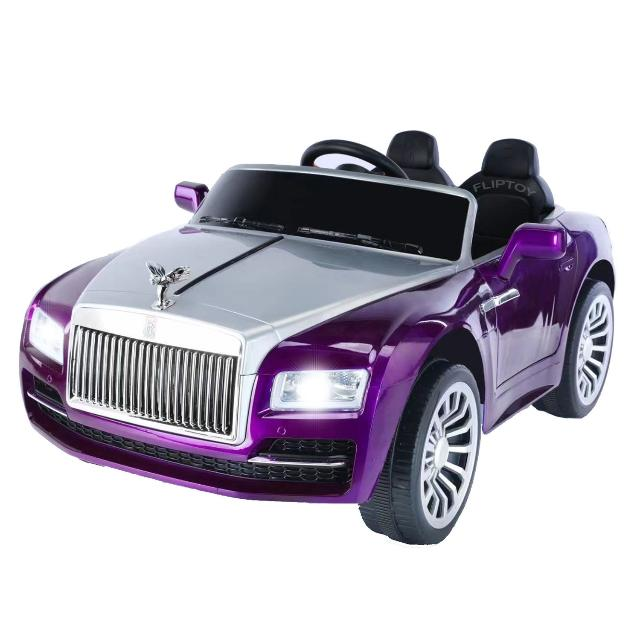rolls-royce: (18, 131, 614, 544)
